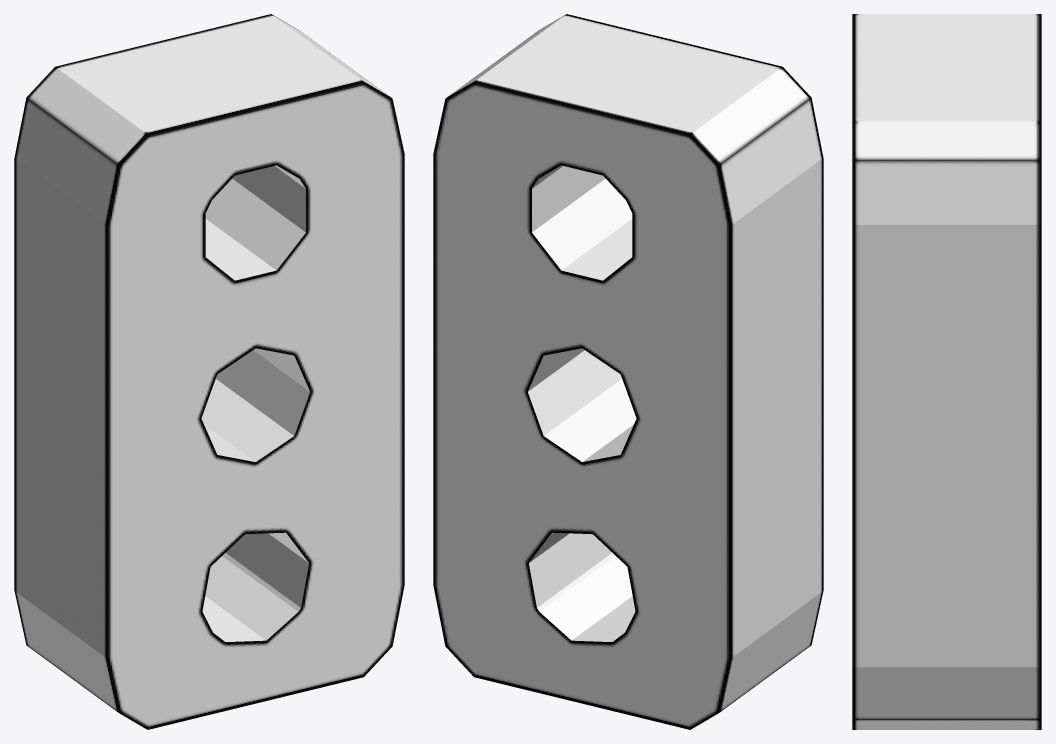
File: Brick_mesh.fbx
3 renders of one model, left to right at view 1: azimuth 30°, elevation 25°; view 2: azimuth 150°, elevation 25°; view 3: azimuth 270°, elevation 25°, orthographic. The views are drawn at different scales.
Visible parts, largest first — view 1: Brick.001; view 2: Brick.001; view 3: Brick.001.
Boxes of the visible parts, bbox=[...] form: Brick.001: bbox=[14, 14, 404, 729]; Brick.001: bbox=[433, 14, 823, 729]; Brick.001: bbox=[852, 14, 1041, 729].
Size of the model in its own units: 9.26 by 17.71 by 4.99.
1 material, 1 textured.
